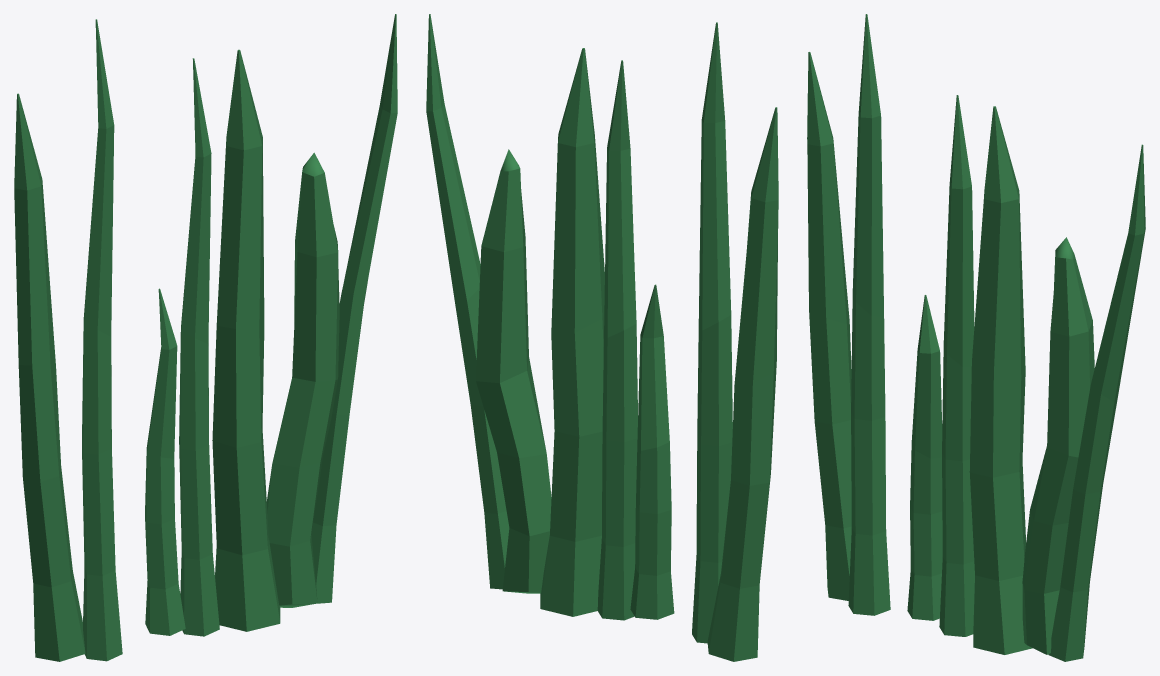
File: LowPolyGrass.fbx
3 renders of one model, left to right at view 1: azimuth 30°, elevation 25°; view 2: azimuth 150°, elevation 25°; view 3: azimuth 330°, elevation 25°, orthographic. The views are drawn at different scales.
Visible parts, largest first — view 1: GrassBlade5, GrassBlade6, GrassBlade3, GrassBlade4, GrassBlade1, GrassBlade7, GrassBlade2; view 2: GrassBlade5, GrassBlade6, GrassBlade3, GrassBlade4, GrassBlade1, GrassBlade7, GrassBlade2; view 3: GrassBlade5, GrassBlade4, GrassBlade6, GrassBlade3, GrassBlade1, GrassBlade7, GrassBlade2.
Boxes of the visible parts, x1=… form: GrassBlade5: x1=212, y1=49, x2=280, y2=631; GrassBlade6: x1=14, y1=93, x2=85, y2=661; GrassBlade3: x1=266, y1=152, x2=339, y2=607; GrassBlade4: x1=82, y1=19, x2=122, y2=661; GrassBlade1: x1=179, y1=58, x2=219, y2=636; GrassBlade7: x1=311, y1=14, x2=397, y2=603; GrassBlade2: x1=145, y1=288, x2=185, y2=635; GrassBlade5: x1=540, y1=48, x2=604, y2=616; GrassBlade6: x1=707, y1=107, x2=778, y2=661; GrassBlade3: x1=476, y1=149, x2=551, y2=593; GrassBlade4: x1=692, y1=22, x2=732, y2=643; GrassBlade1: x1=597, y1=60, x2=637, y2=620; GrassBlade7: x1=426, y1=14, x2=509, y2=589; GrassBlade2: x1=630, y1=284, x2=674, y2=619; GrassBlade5: x1=969, y1=106, x2=1032, y2=654; GrassBlade4: x1=848, y1=14, x2=890, y2=615; GrassBlade6: x1=807, y1=52, x2=851, y2=600; GrassBlade3: x1=1022, y1=237, x2=1094, y2=654; GrassBlade1: x1=939, y1=95, x2=974, y2=636; GrassBlade7: x1=1048, y1=144, x2=1145, y2=661; GrassBlade2: x1=907, y1=295, x2=942, y2=620.
Size of the model in its own units: 110 by 180 by 20.27.
